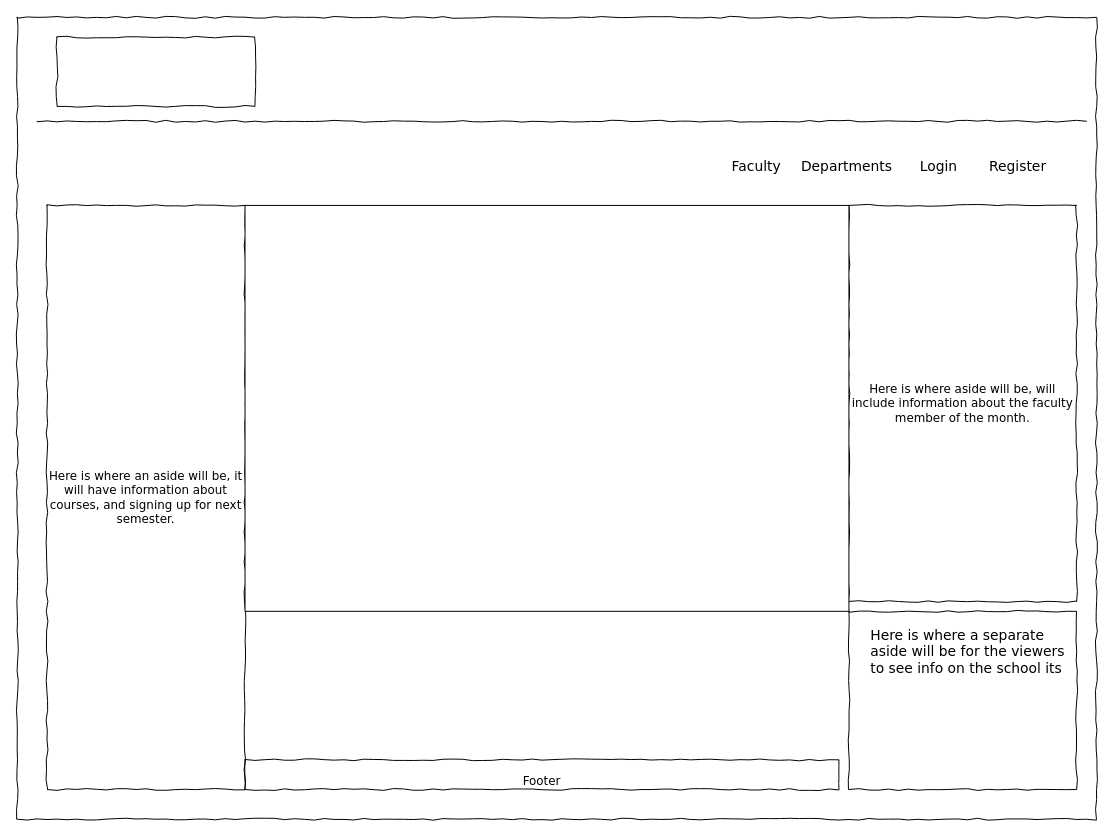
The diagram is 1114 pixels wide and 837 high, and some of its shapes have lost their labels. Here are the shapes that lost their labels. From the top down, the centre of each, then its label:
At (x=155, y=71): "Welcome to University".
At (x=546, y=407): "hero page for information about the school itself.".
